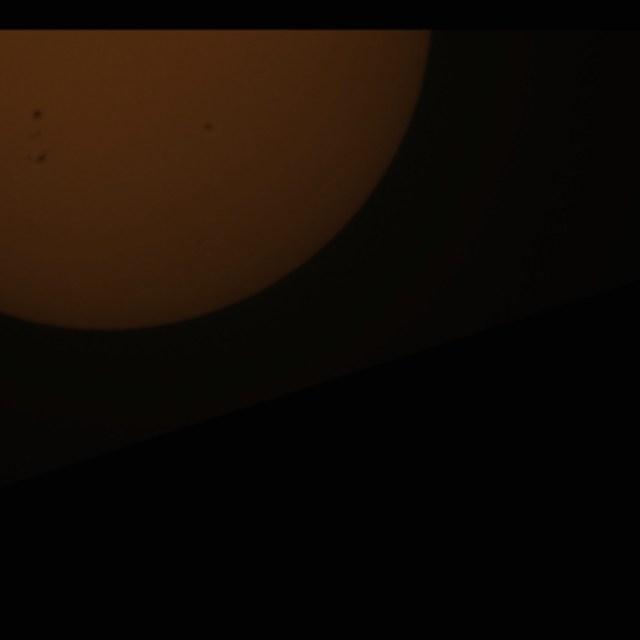sunspot: (27, 107, 46, 146), (26, 146, 49, 167), (30, 107, 45, 127), (202, 120, 215, 135)
